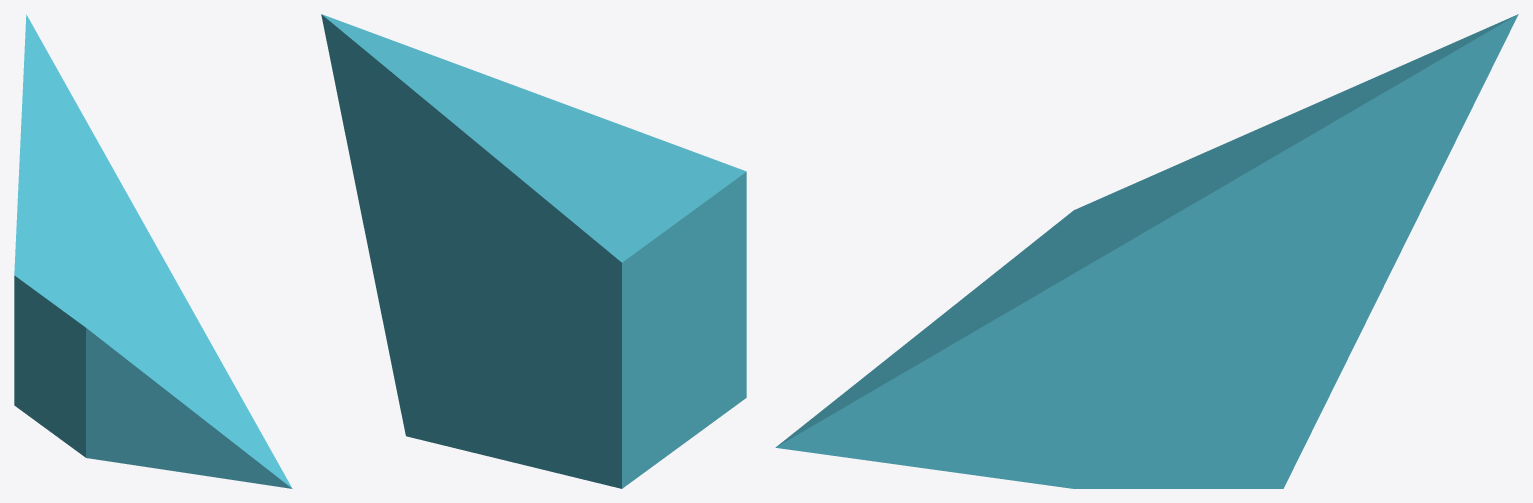
The model's file is background.glb.
3 views of the same model, side by side, from view 1: azimuth 30°, elevation 25°; view 2: azimuth 150°, elevation 25°; view 3: azimuth 270°, elevation 25° (orthographic). The views are drawn at different scales.
Parts seen in each view (by area): view 1: Cube; view 2: Cube; view 3: Cube.
Boxes of the visible parts, x1,y1,x2,y2 form: Cube: (14, 14, 292, 488); Cube: (321, 14, 746, 488); Cube: (775, 14, 1518, 488).
Bounding box in the file's own units: 1.43 × 3.4 × 5.07.
